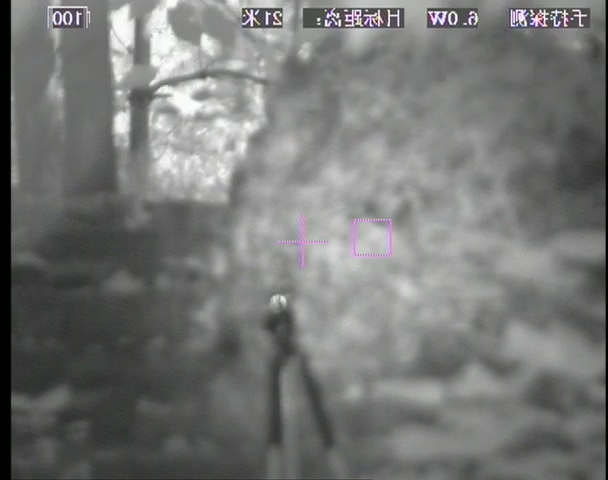my: (265, 292, 287, 313)
